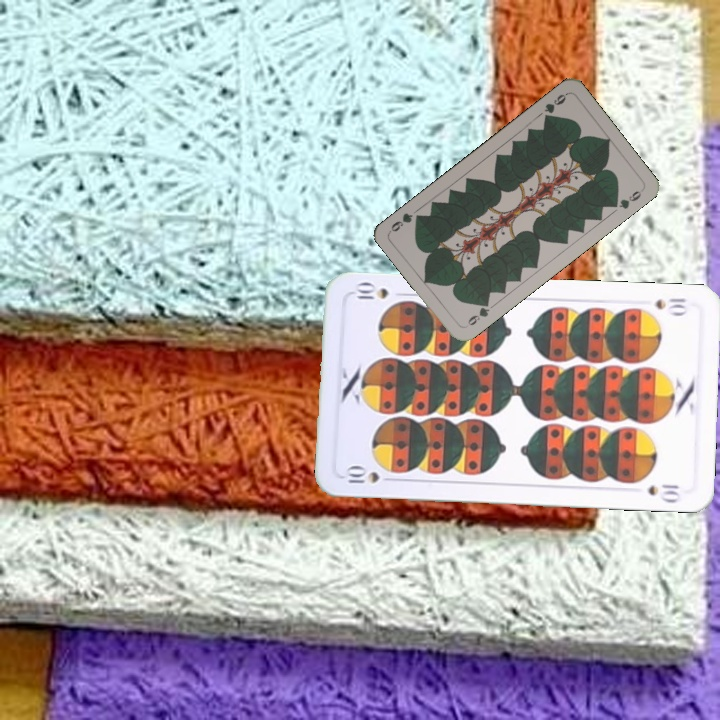G9: (461, 297, 492, 330), (540, 89, 570, 123)
S10: (342, 464, 398, 486), (651, 293, 690, 318)
